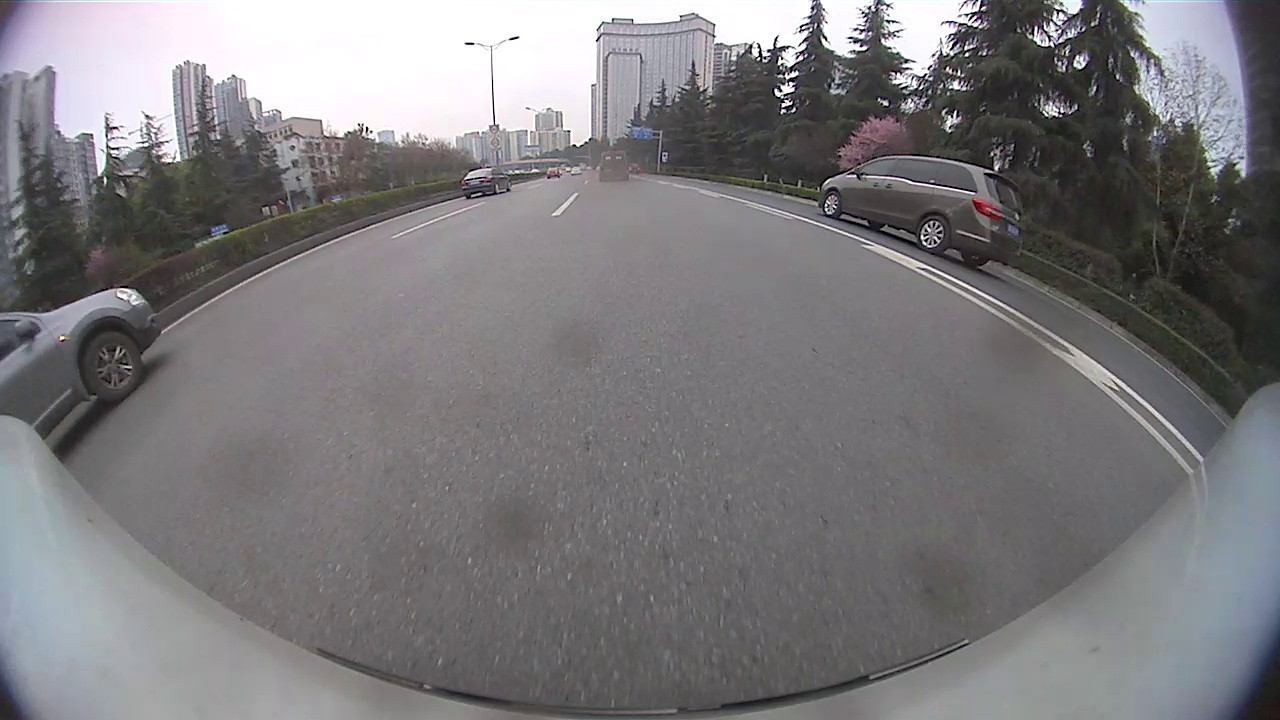car: (0, 285, 161, 442), (816, 155, 1027, 268), (460, 165, 512, 200), (598, 148, 630, 182)
front: (82, 330, 142, 402), (823, 191, 842, 219)
rear: (918, 214, 950, 256)
